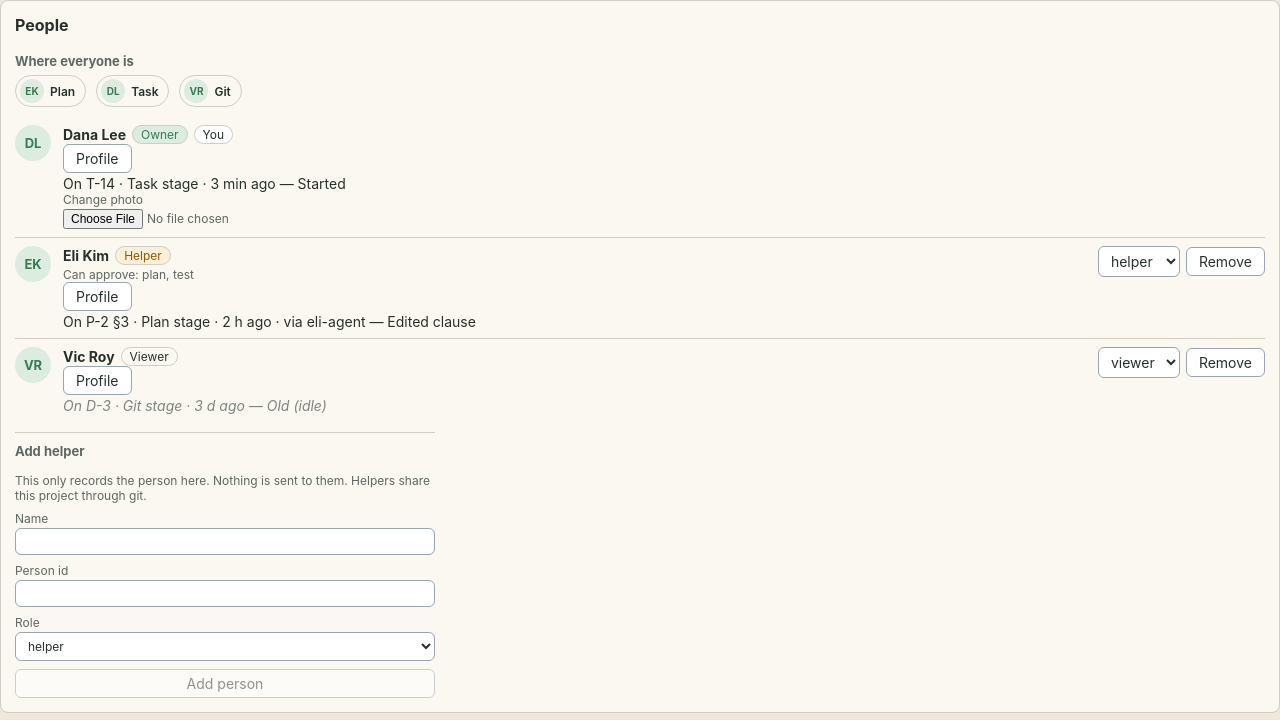
it: owner controls › two-step remove
The width and height of the screenshot is (1280, 720).
Click the button with aria-label "Remove Eli Kim".
click(1225, 262)  # box [1186,247,1265,276]
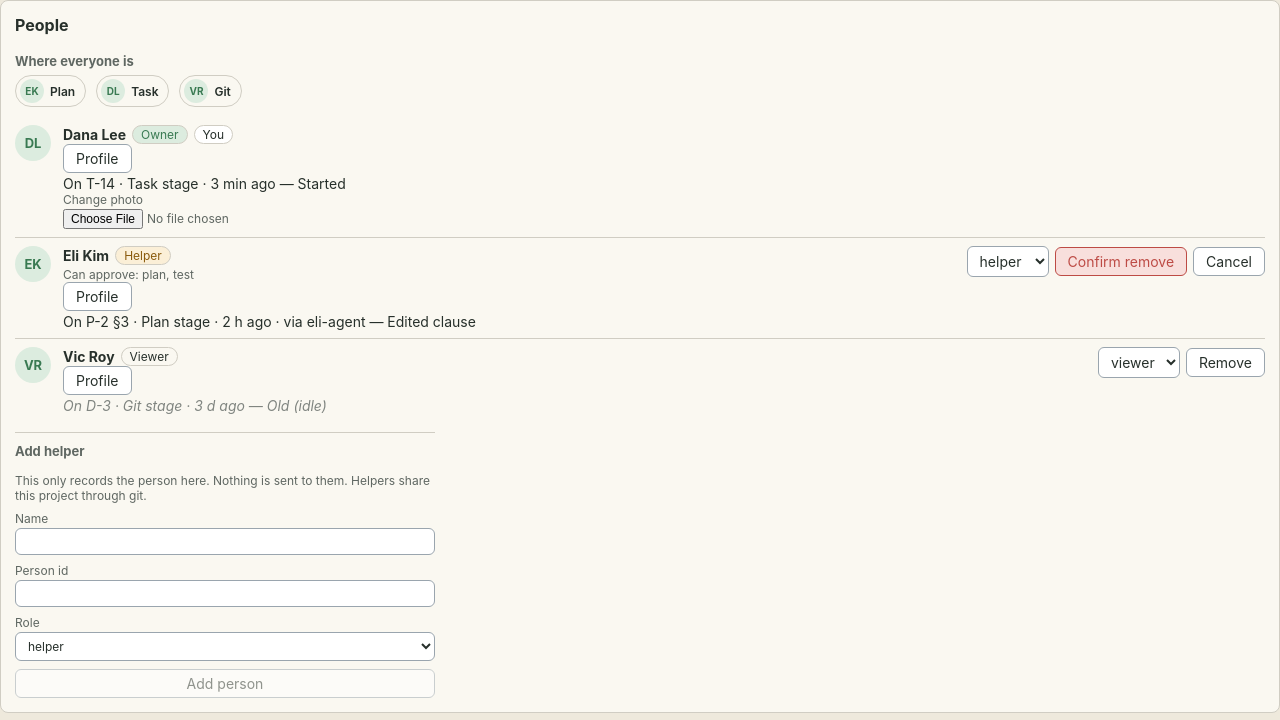
Click the button "Confirm remove".
click(1121, 262)  # box [1055,247,1187,276]
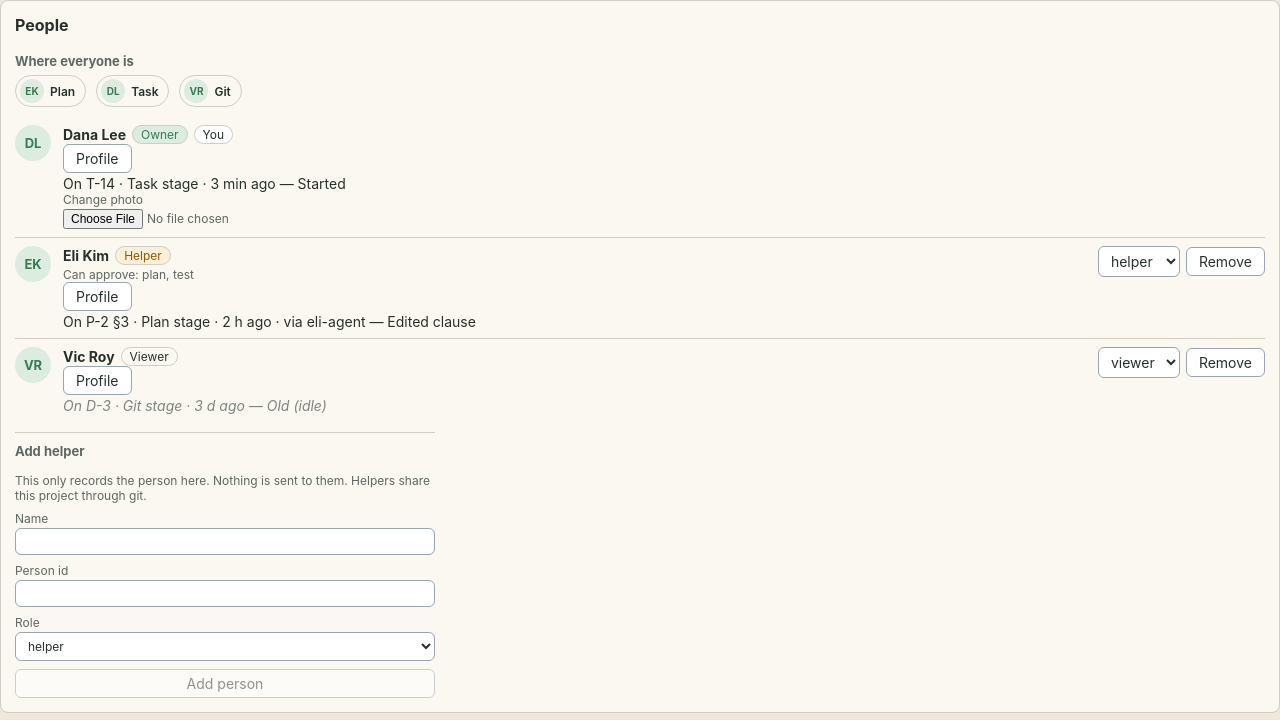
Expected: the button "Confirm remove" is gone
